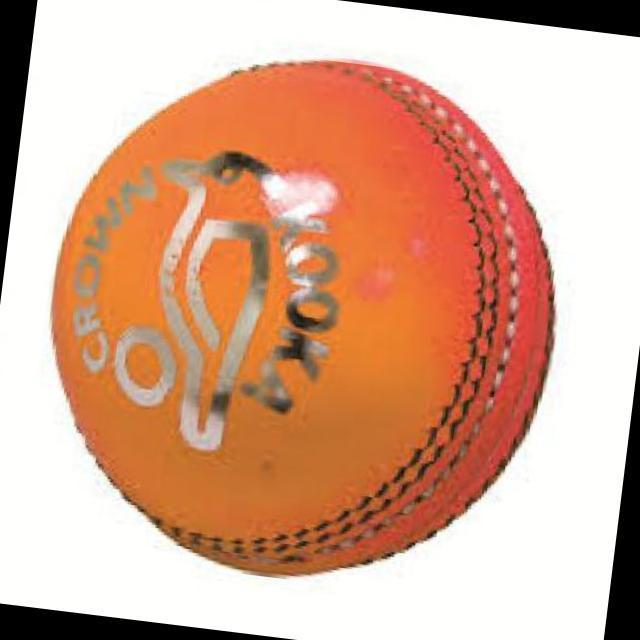-: (23, 45, 578, 558)
